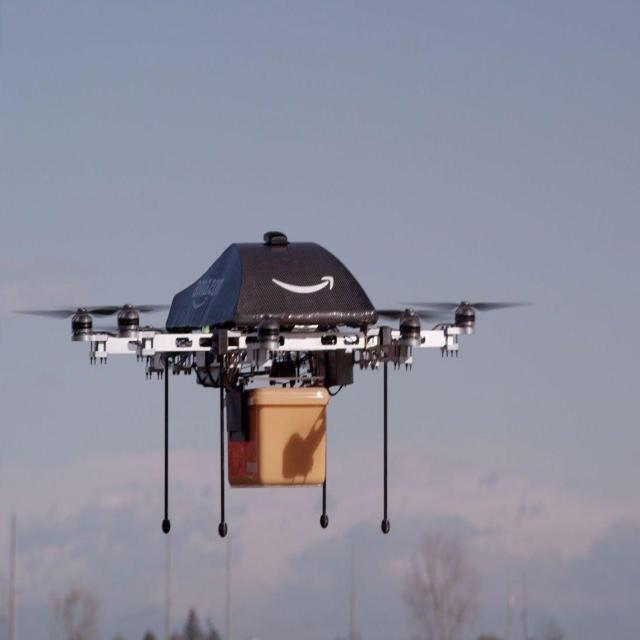drone: (10, 225, 529, 534)
